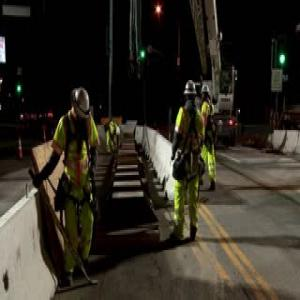white: (70, 84, 92, 126), (184, 80, 197, 105), (202, 85, 210, 100)
